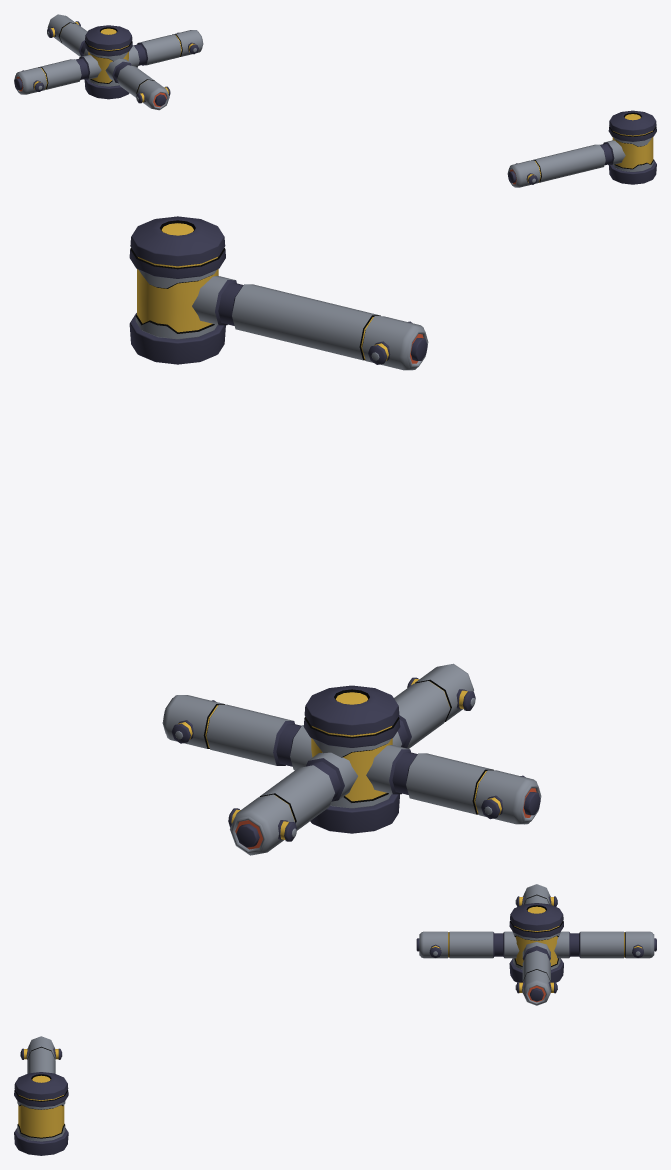
Rendered from Level30_Objects.fbx.
3 renders of one model, top to bottom at view 1: azimuth 30°, elevation 25°; view 2: azimuth 150°, elevation 25°; view 3: azimuth 270°, elevation 25°, orthographic. The views are drawn at different scales.
Parts seen in each view (by area): view 1: pCylinder14 (×5), pCylinder13 (×2); view 2: pCylinder14 (×5), pCylinder13 (×2); view 3: pCylinder14 (×5), pCylinder13 (×2).
Boxes of the visible parts, box(x1,y1,x2,y2) form: pCylinder14 (×5): box(14, 14, 625, 187); pCylinder13 (×2): box(84, 25, 656, 184); pCylinder14 (×5): box(162, 275, 541, 855); pCylinder13 (×2): box(129, 216, 400, 833); pCylinder14 (×5): box(27, 884, 656, 1073); pCylinder13 (×2): box(14, 903, 563, 1155).
Size of the model in its own units: 243 by 33.22 by 285.
